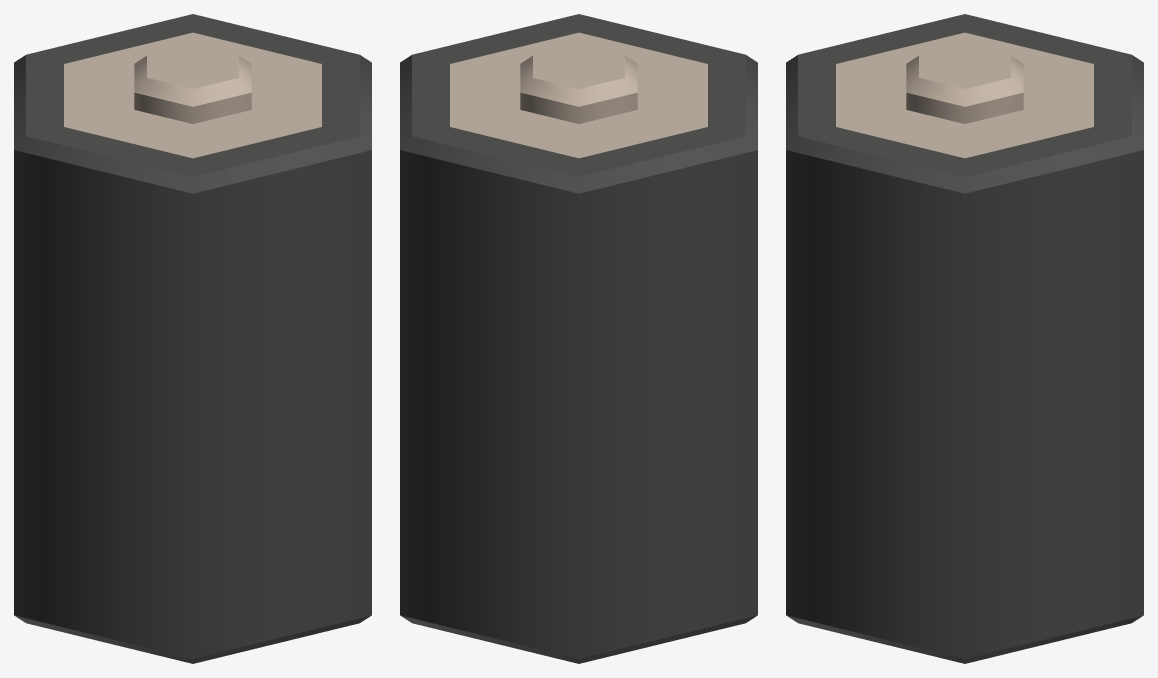
Rendered from battery.fbx.
3 views of the same model, side by side, from view 1: azimuth 30°, elevation 25°; view 2: azimuth 150°, elevation 25°; view 3: azimuth 270°, elevation 25° (orthographic).
Visible parts, largest first — view 1: Zylinder; view 2: Zylinder; view 3: Zylinder.
Part boxes in pixels (box(x1,y1,x2,y2)): Zylinder: box(14, 14, 371, 663); Zylinder: box(400, 14, 757, 663); Zylinder: box(786, 14, 1143, 663).
Bounding box in the file's own units: 10 × 13.98 × 8.66.
1 material, 1 textured.
